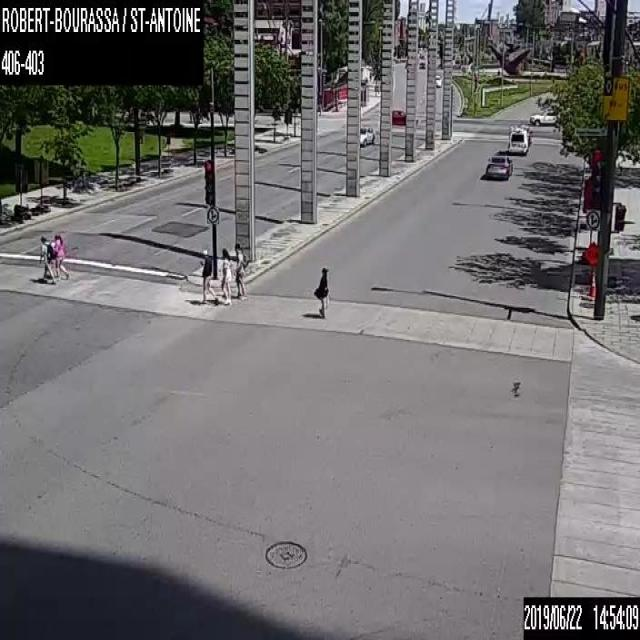construction: (582, 240, 597, 299), (588, 271, 597, 297)
pedestrian: (200, 248, 218, 306), (233, 242, 249, 298), (312, 264, 328, 319), (40, 232, 56, 285), (220, 246, 233, 303), (53, 232, 68, 280)
vehicle: (484, 154, 512, 180), (529, 107, 557, 125), (508, 128, 528, 153), (514, 125, 532, 143), (358, 126, 374, 146), (391, 108, 406, 125), (435, 74, 441, 86), (418, 61, 425, 68)
